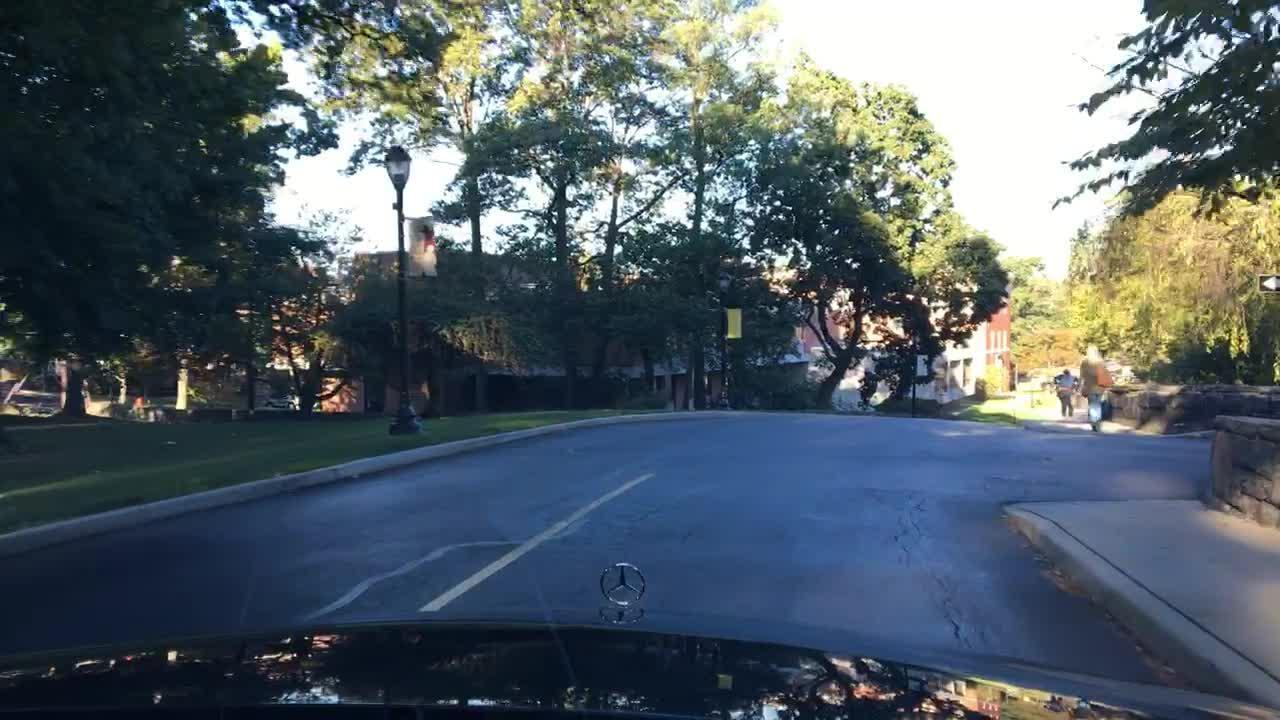Mercedes: (588, 549, 661, 613)
